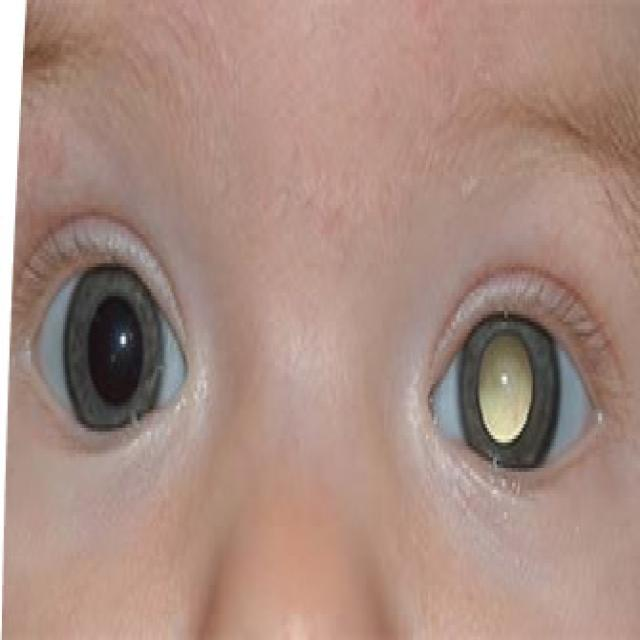reflexo-alterado: (456, 296, 558, 492)
reflexo-normal: (63, 252, 164, 442)
